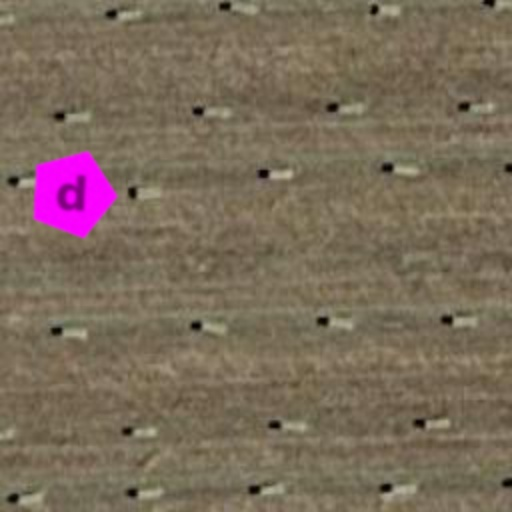pentagon: (22, 144, 122, 244)
